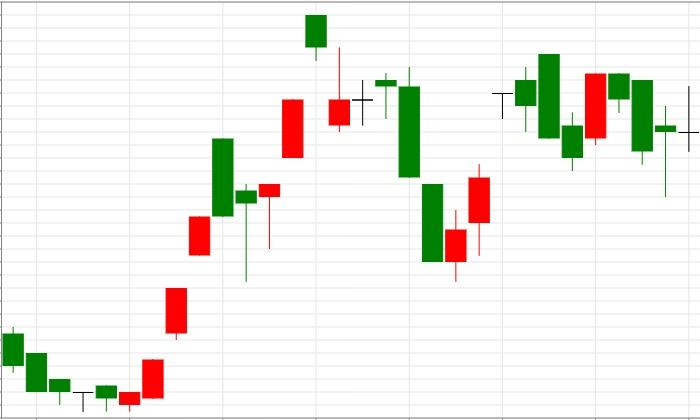three_white_soldiers_rise: (2, 216, 210, 412)
